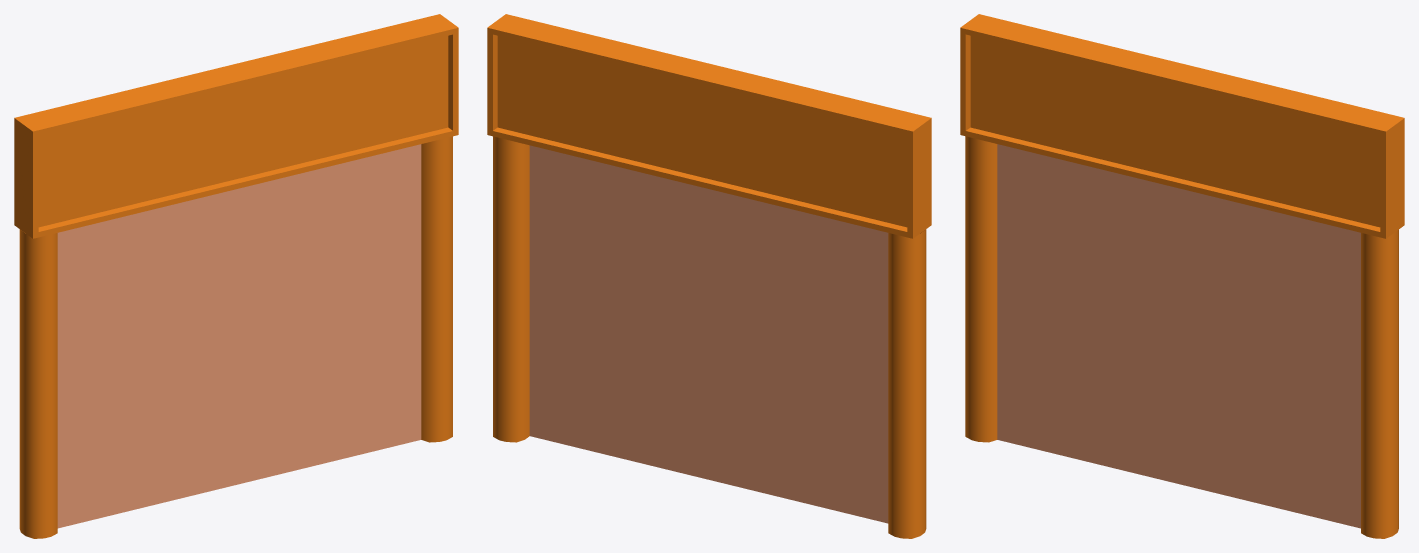
Rendered from POWER GATE.fbx.
The picture shows the model from 3 angles, left to right: view 1: azimuth 30°, elevation 25°; view 2: azimuth 150°, elevation 25°; view 3: azimuth 330°, elevation 25°; orthographic projection.
Visible parts, largest first — view 1: POWER GATE; view 2: POWER GATE; view 3: POWER GATE.
Boxes of the visible parts, box(x1,y1,x2,y2) form: POWER GATE: box(14, 14, 458, 538); POWER GATE: box(487, 14, 931, 538); POWER GATE: box(960, 14, 1404, 538).
Size of the model in its own units: 0.683 by 0.6277 by 0.052.
